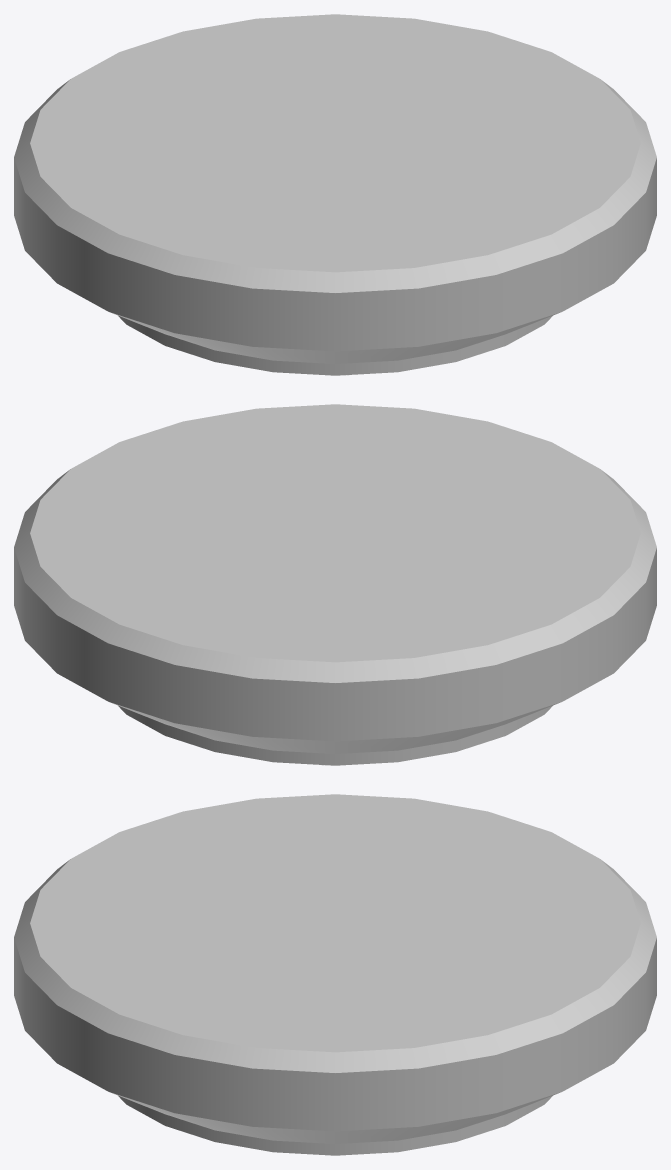
The model's file is AndromedaUS_Engine_1.obj.
3 renders of one model, top to bottom at view 1: azimuth 30°, elevation 25°; view 2: azimuth 150°, elevation 25°; view 3: azimuth 270°, elevation 25°, orthographic.
Visible parts, largest first — view 1: AndromedaUS_Engine_1; view 2: AndromedaUS_Engine_1; view 3: AndromedaUS_Engine_1.
Boxes of the visible parts, bbox=[...] form: AndromedaUS_Engine_1: bbox=[14, 14, 656, 375]; AndromedaUS_Engine_1: bbox=[14, 404, 656, 765]; AndromedaUS_Engine_1: bbox=[14, 794, 656, 1155].
Bounding box in the file's own units: 1.25 × 0.405 × 1.25.
